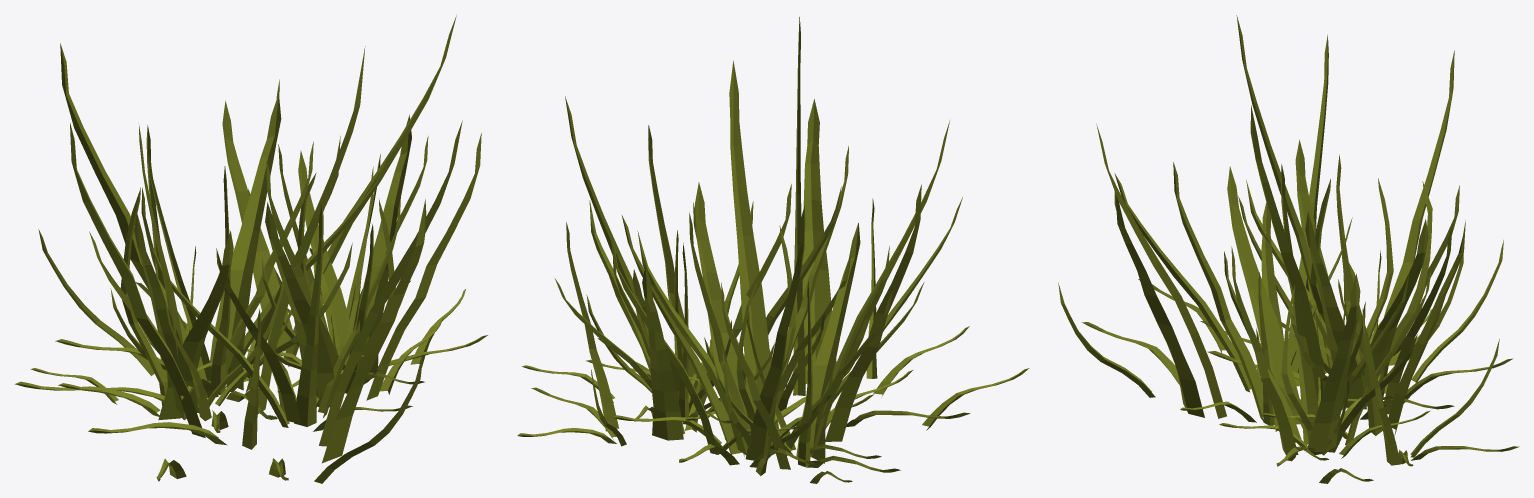
The model's file is wild-grasses-2.obj.
The picture shows the model from 3 angles, left to right: view 1: azimuth 30°, elevation 25°; view 2: azimuth 150°, elevation 25°; view 3: azimuth 270°, elevation 25°; orthographic projection. The views are drawn at different scales.
Visible parts, largest first — view 1: Grass.Clump.Style_1_Grass.,Clump.Style_1.Mesh; view 2: Grass.Clump.Style_1_Grass.,Clump.Style_1.Mesh; view 3: Grass.Clump.Style_1_Grass.,Clump.Style_1.Mesh.
Part boxes in pixels (bbox=[...]): Grass.Clump.Style_1_Grass.,Clump.Style_1.Mesh: bbox=[14, 15, 487, 483]; Grass.Clump.Style_1_Grass.,Clump.Style_1.Mesh: bbox=[517, 17, 1029, 483]; Grass.Clump.Style_1_Grass.,Clump.Style_1.Mesh: bbox=[1058, 15, 1519, 483].
Bounding box in the file's own units: 0.9393 × 0.7668 × 0.944.
